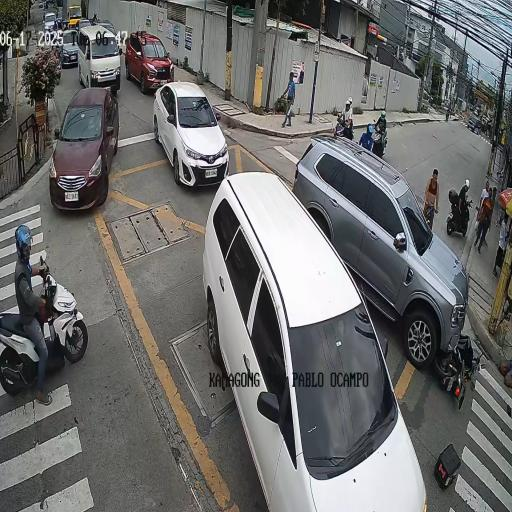Car: (180, 165, 432, 512), (308, 136, 468, 356), (146, 69, 239, 197), (50, 86, 128, 221), (76, 22, 130, 88), (126, 26, 174, 90)
Minor Accident: (297, 154, 480, 409)
Motor: (0, 223, 106, 388), (432, 326, 487, 413), (446, 175, 472, 242), (360, 112, 396, 156), (331, 96, 361, 142)
